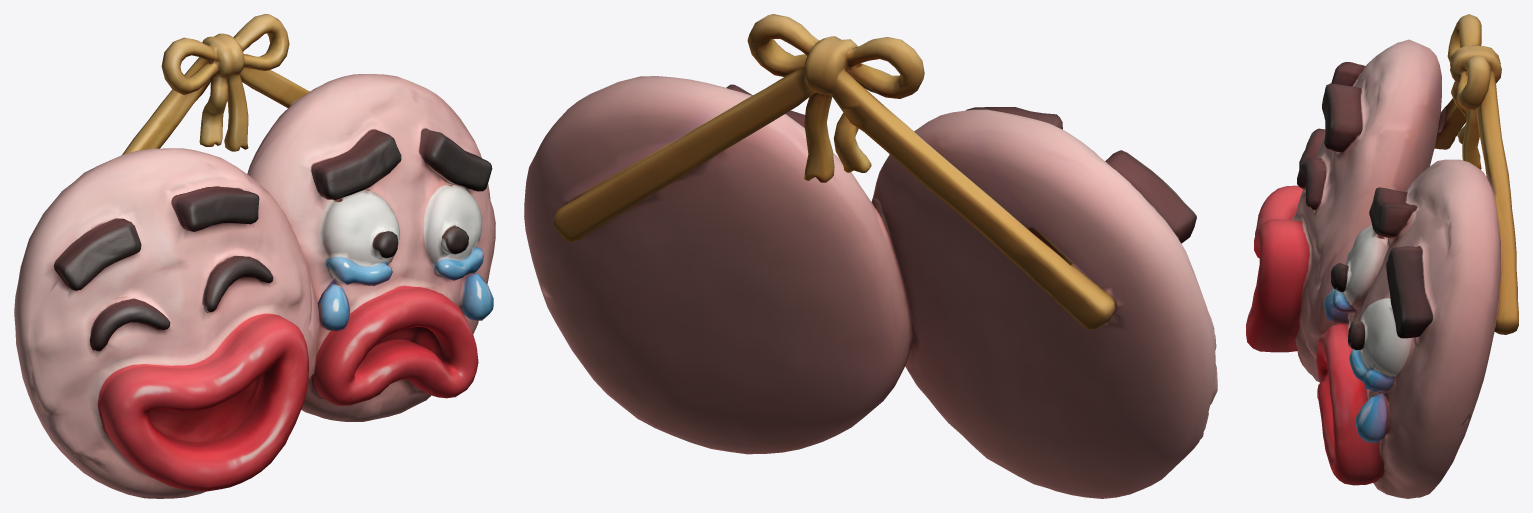
File: maske.glb
The picture shows the model from 3 angles, left to right: view 1: azimuth 30°, elevation 25°; view 2: azimuth 150°, elevation 25°; view 3: azimuth 270°, elevation 25°; orthographic projection. The views are drawn at different scales.
Parts seen in each view (by area): view 1: tripo_node_4b43028b-95d4-4187-96f0-10fa410a33c0; view 2: tripo_node_4b43028b-95d4-4187-96f0-10fa410a33c0; view 3: tripo_node_4b43028b-95d4-4187-96f0-10fa410a33c0.
Part boxes in pixels (x1=…): tripo_node_4b43028b-95d4-4187-96f0-10fa410a33c0: x1=14, y1=14, x2=495, y2=498; tripo_node_4b43028b-95d4-4187-96f0-10fa410a33c0: x1=524, y1=14, x2=1217, y2=498; tripo_node_4b43028b-95d4-4187-96f0-10fa410a33c0: x1=1246, y1=14, x2=1518, y2=498.
Size of the model in its own units: 0.9786 by 0.7258 by 0.4615.
1 material, 1 textured.
